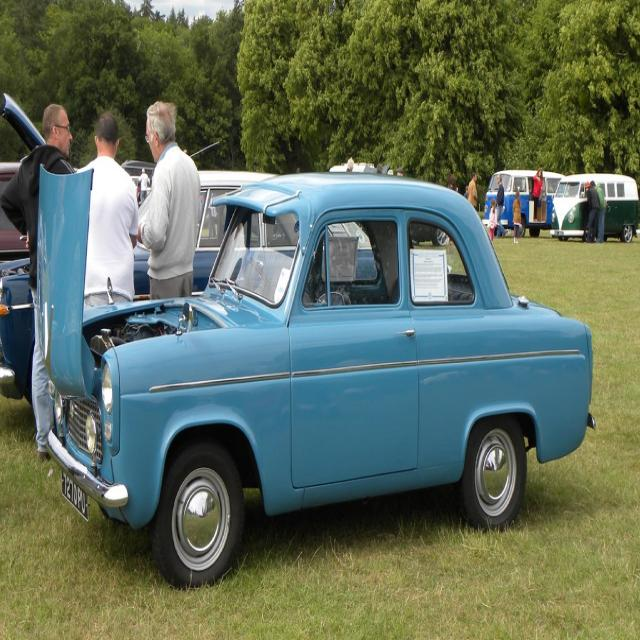car: (41, 171, 596, 591)
